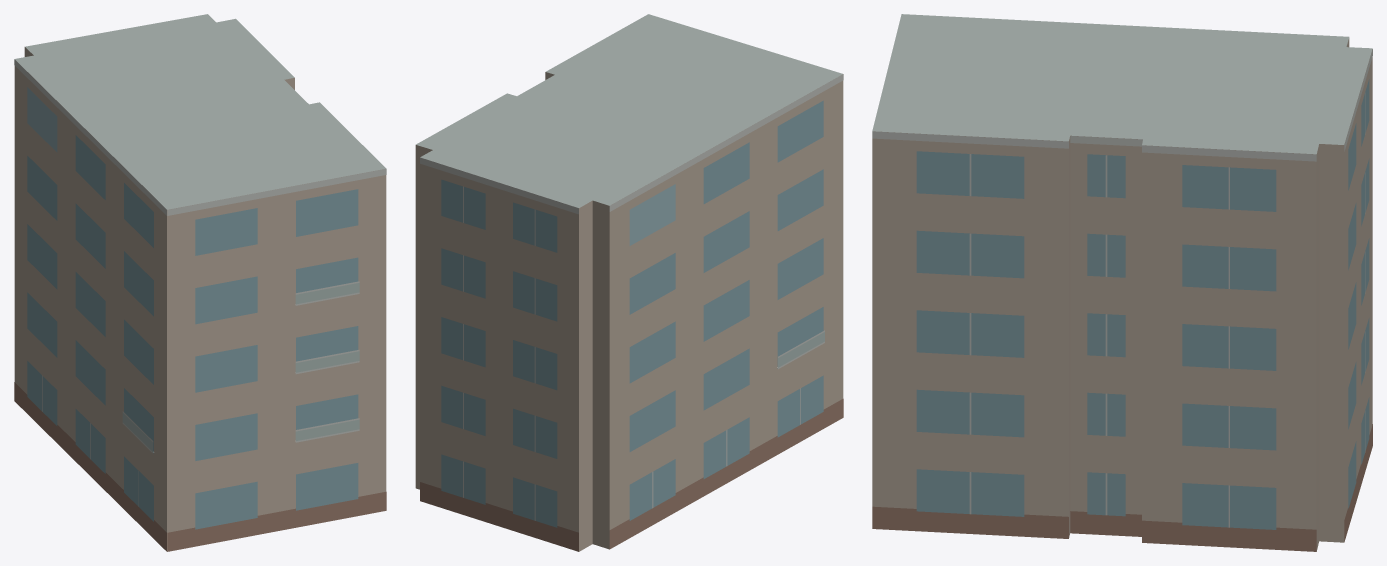
Rendered from survey-upis-32878966.glb.
The picture shows the model from 3 angles, left to right: view 1: azimuth 30°, elevation 25°; view 2: azimuth 150°, elevation 25°; view 3: azimuth 270°, elevation 25°; orthographic projection. The views are drawn at different scales.
Parts seen in each view (by area): view 1: survey-upis-32878966.tmp; view 2: survey-upis-32878966.tmp; view 3: survey-upis-32878966.tmp.
Part boxes in pixels (left/top/right/bottom): survey-upis-32878966.tmp: left=14, top=14, right=386, bottom=551; survey-upis-32878966.tmp: left=415, top=14, right=843, bottom=551; survey-upis-32878966.tmp: left=872, top=14, right=1372, bottom=551.
Bounding box in the file's own units: 10.07 × 13.3 × 15.19.
